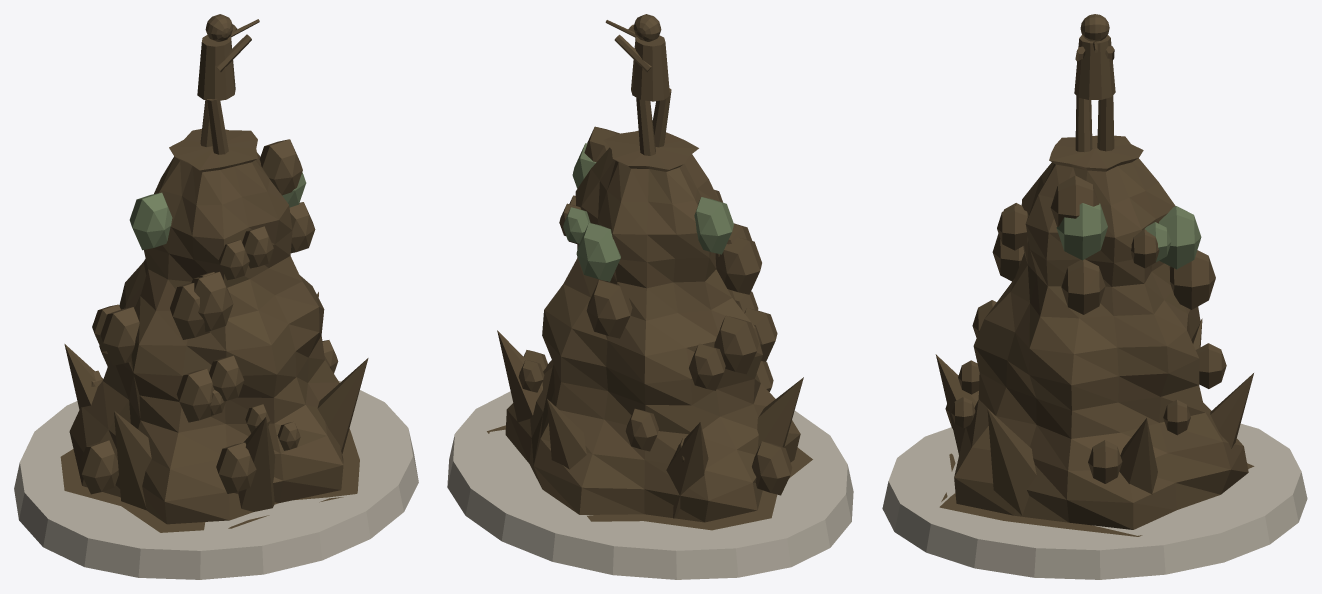
Rendered from peter_pan_statue.glb.
3 renders of one model, left to right at view 1: azimuth 30°, elevation 25°; view 2: azimuth 150°, elevation 25°; view 3: azimuth 270°, elevation 25°, orthographic. The views are drawn at different scales.
Bounding box in the file's own units: 3.5 × 4.62 × 3.5.
